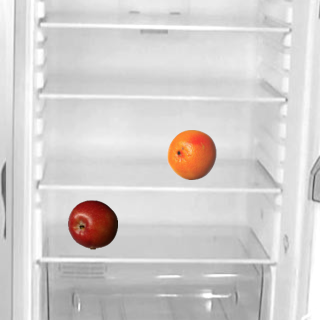Apple Braeburn: (67, 199, 117, 249)
Grapefruit Pink: (166, 129, 216, 179)
